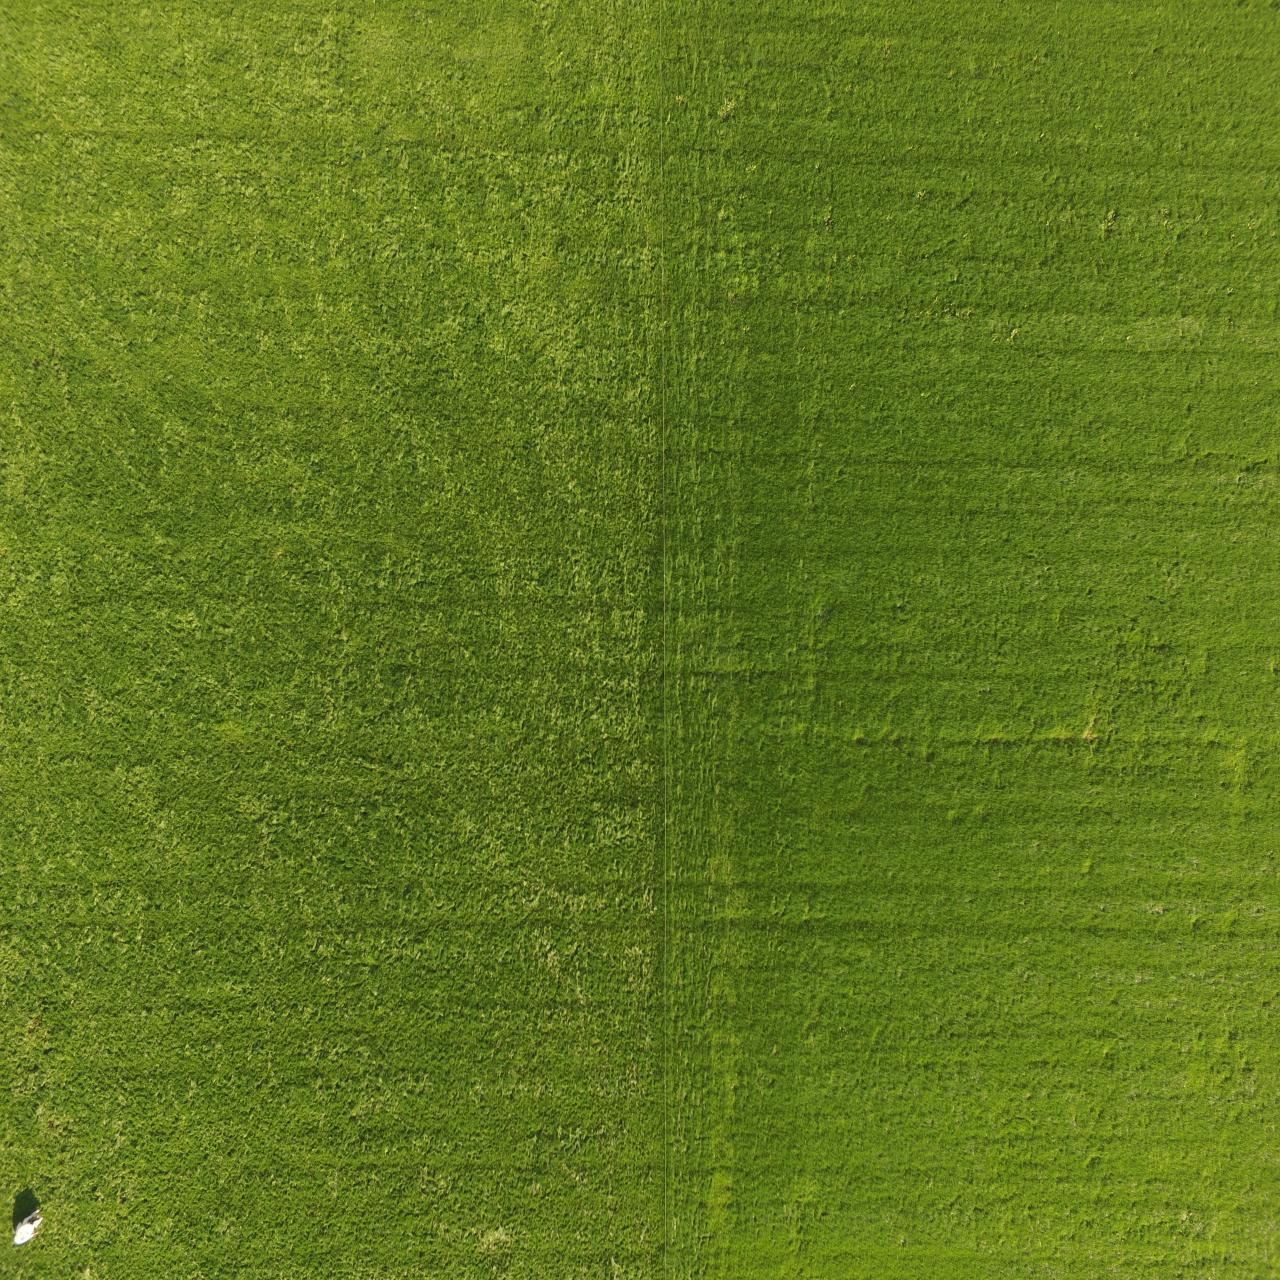cow: (15, 1199, 45, 1254)
